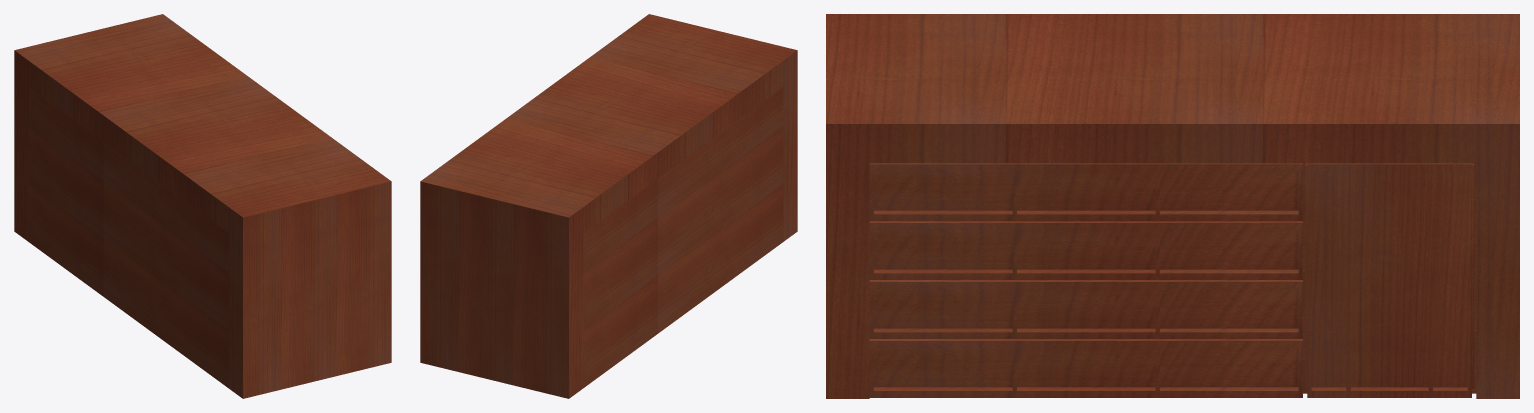
File: comoCiliegio.obj
3 views of the same model, side by side, from view 1: azimuth 30°, elevation 25°; view 2: azimuth 150°, elevation 25°; view 3: azimuth 270°, elevation 25° (orthographic). The views are drawn at different scales.
Visible parts, largest first — view 1: Line41_1, Box64_12; view 2: Line41_1, Box64_12; view 3: Line41_1, Box63_10, Box59_3, Box60_5, Box61_7, Box62_9, Line43_4, Line44_6, Line45_8, Line42_2, Line46_11, Box64_12.
Part boxes in pixels (<box>): Line41_1: <box>14,14,391,398</box>; Box64_12: <box>28,87,228,387</box>; Line41_1: <box>420,14,797,398</box>; Box64_12: <box>583,87,783,387</box>; Line41_1: <box>826,14,1519,398</box>; Box63_10: <box>1305,163,1474,389</box>; Box59_3: <box>874,171,1298,210</box>; Box60_5: <box>874,230,1298,269</box>; Box61_7: <box>874,289,1298,328</box>; Box62_9: <box>874,348,1298,387</box>; Line43_4: <box>869,221,1302,279</box>; Line44_6: <box>869,280,1302,338</box>; Line45_8: <box>869,339,1302,397</box>; Line42_2: <box>869,163,1302,221</box>; Line46_11: <box>1307,163,1471,397</box>; Box64_12: <box>1303,163,1476,393</box>.
Bounding box in the file's own units: 60 × 70 × 160.
